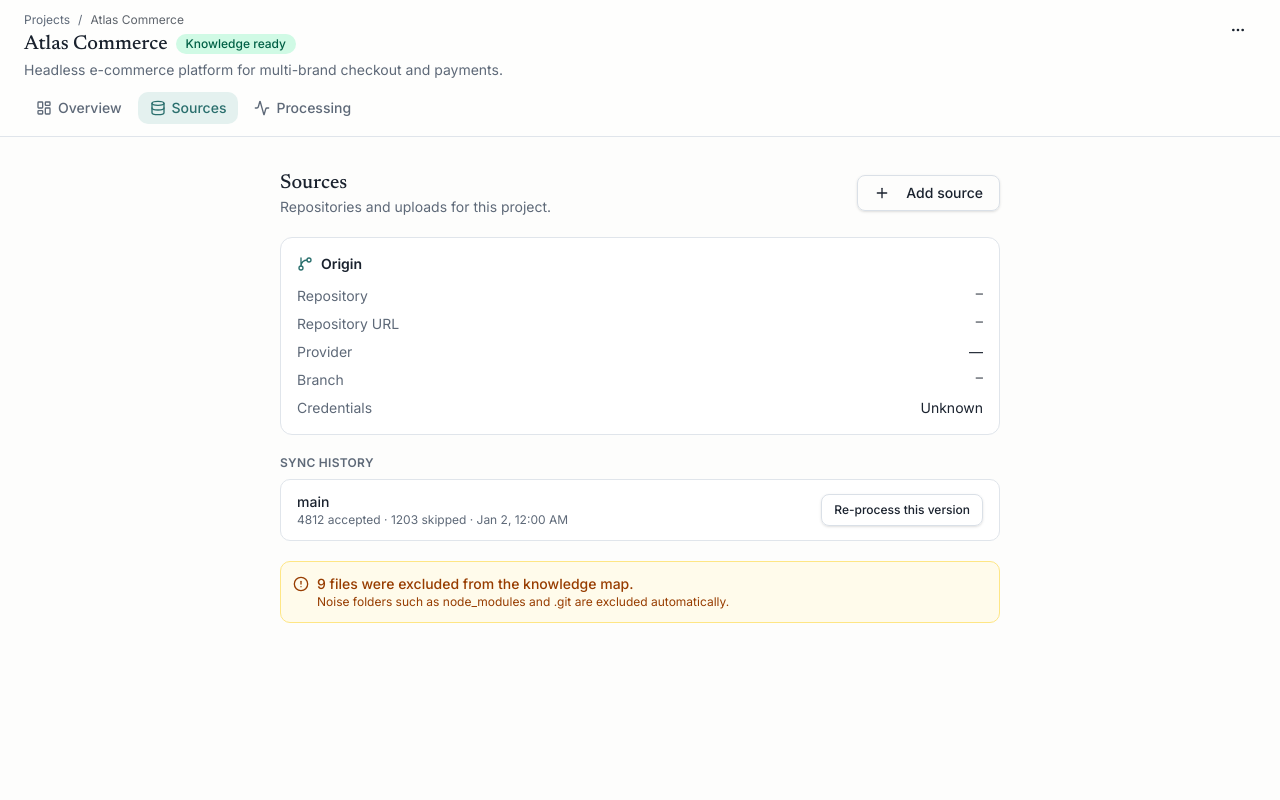
Test: SourcesPanel › opens the connect-repository dialog from Add source when no connection exists
Click the button "Add source": coordinates (929, 193) 857,175 -> 1000,211
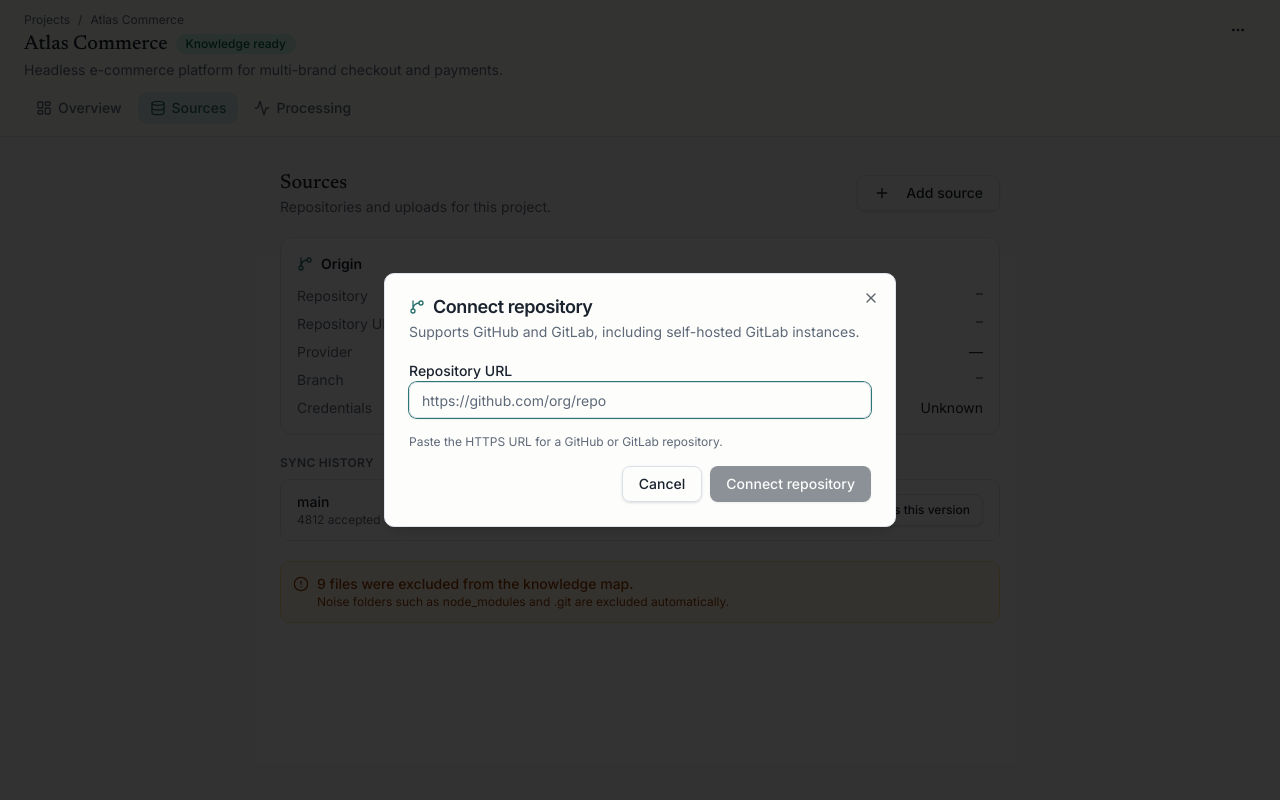
Check: the heading "Connect repository" is shown, box 409,296 -> 592,317
